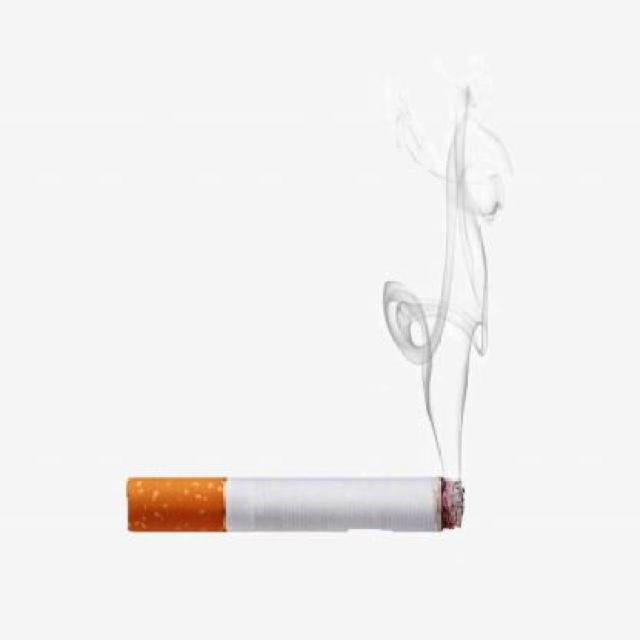cigarette: (78, 454, 473, 552)
